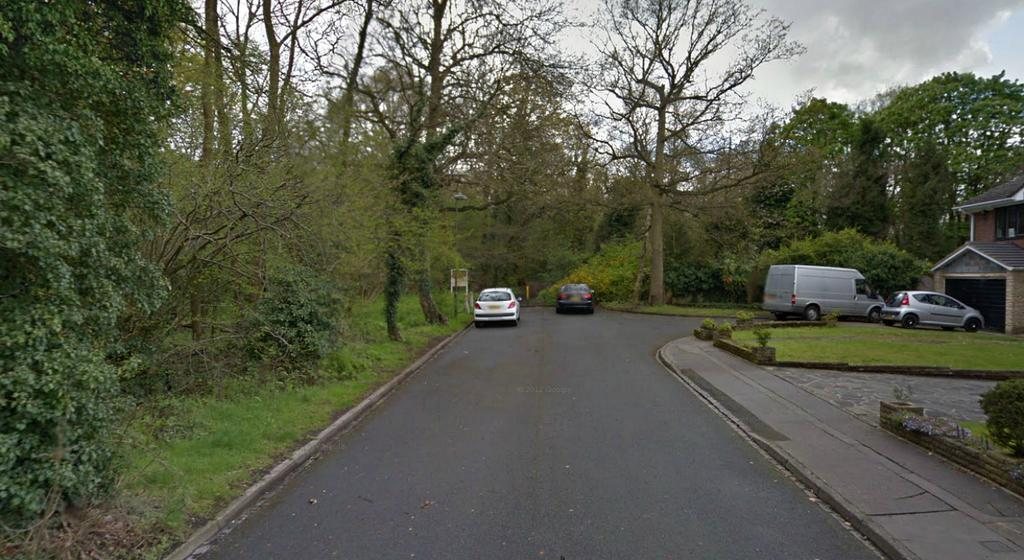vehicle: (762, 265, 885, 320), (882, 291, 985, 332), (475, 287, 522, 328), (556, 282, 596, 315)
